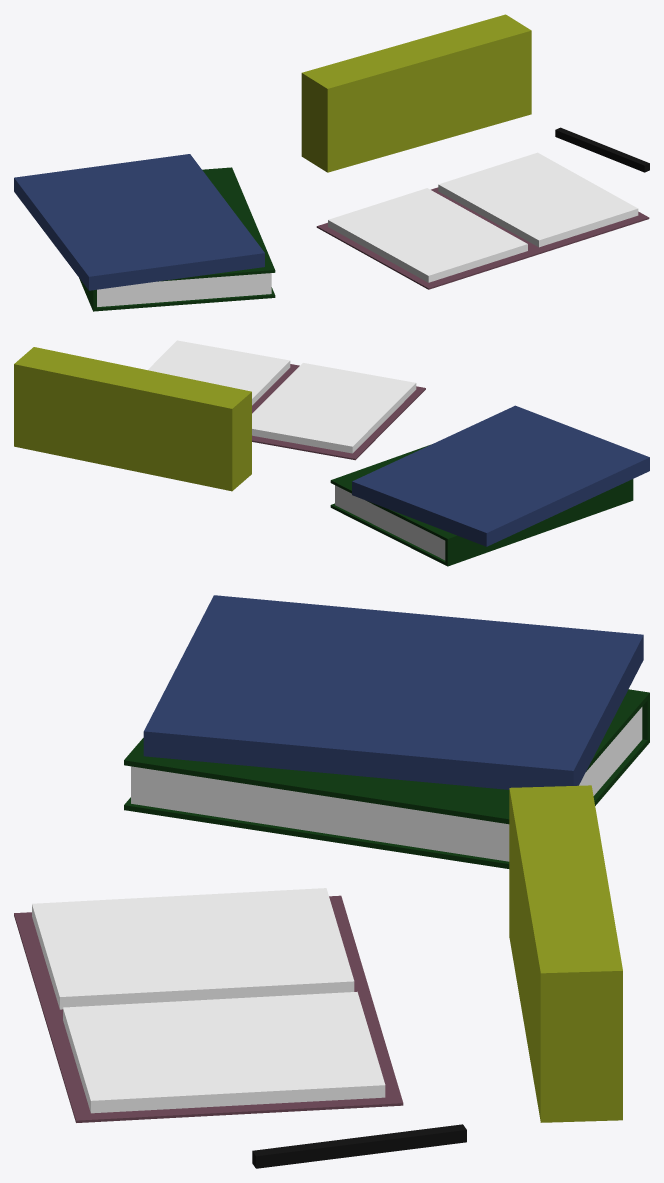
Rendered from stuff01.obj.
3 views of the same model, one above another, from view 1: azimuth 30°, elevation 25°; view 2: azimuth 150°, elevation 25°; view 3: azimuth 270°, elevation 25° (orthographic). The views are drawn at different scales.
Visible parts, largest first — view 1: PencilCase_Cube.001, Book1_Cube.003, Cube.001_Cube.006, Cube.002_Cube.007, Book2.001_Cube.008, Book2_Cube.004, Cube, Pen_Cube.002; view 2: PencilCase_Cube.001, Book1_Cube.003, Cube.002_Cube.007, Book2_Cube.004, Cube.001_Cube.006, Book2.001_Cube.008, Cube; view 3: Book1_Cube.003, PencilCase_Cube.001, Cube.001_Cube.006, Cube.002_Cube.007, Book2.001_Cube.008, Book2_Cube.004, Cube, Pen_Cube.002.
Part boxes in pixels (left/top/right/bottom): PencilCase_Cube.001: left=301, top=14, right=531, bottom=172; Book1_Cube.003: left=14, top=154, right=264, bottom=290; Cube.001_Cube.006: left=438, top=152, right=638, bottom=247; Cube.002_Cube.007: left=328, top=188, right=527, bottom=282; Book2.001_Cube.008: left=97, top=273, right=271, bottom=306; Book2_Cube.004: left=79, top=167, right=275, bottom=311; Cube: left=316, top=187, right=649, bottom=289; Pen_Cube.002: left=555, top=127, right=649, bottom=172; PencilCase_Cube.001: left=14, top=347, right=251, bottom=491; Book1_Cube.003: left=352, top=405, right=649, bottom=546; Cube.002_Cube.007: left=252, top=363, right=416, bottom=453; Book2_Cube.004: left=330, top=444, right=633, bottom=566; Cube.001_Cube.006: left=148, top=340, right=290, bottom=405; Book2.001_Cube.008: left=335, top=485, right=445, bottom=560; Cube: left=252, top=364, right=425, bottom=460; Book1_Cube.003: left=143, top=595, right=643, bottom=789; PencilCase_Cube.001: left=509, top=785, right=622, bottom=1122; Cube.001_Cube.006: left=63, top=991, right=385, bottom=1113; Cube.002_Cube.007: left=32, top=888, right=354, bottom=1009; Book2.001_Cube.008: left=131, top=707, right=642, bottom=861; Book2_Cube.004: left=124, top=689, right=649, bottom=868; Cube: left=14, top=895, right=403, bottom=1122; Pen_Cube.002: left=252, top=1124, right=466, bottom=1168.
Bounding box in the file's own units: 0.8587 × 0.13 × 0.4626.
